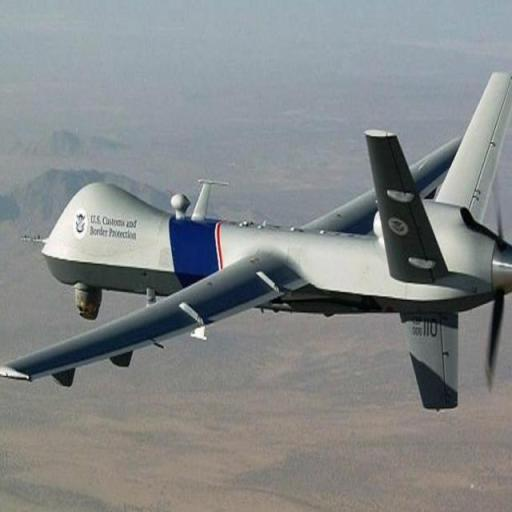uav: (34, 64, 512, 436)
